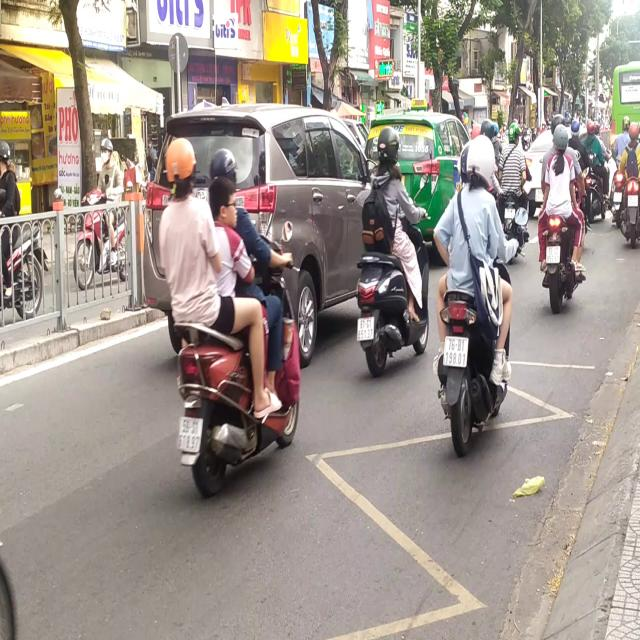bien_trang: (175, 409, 205, 461), (441, 330, 470, 371), (356, 316, 376, 342)
